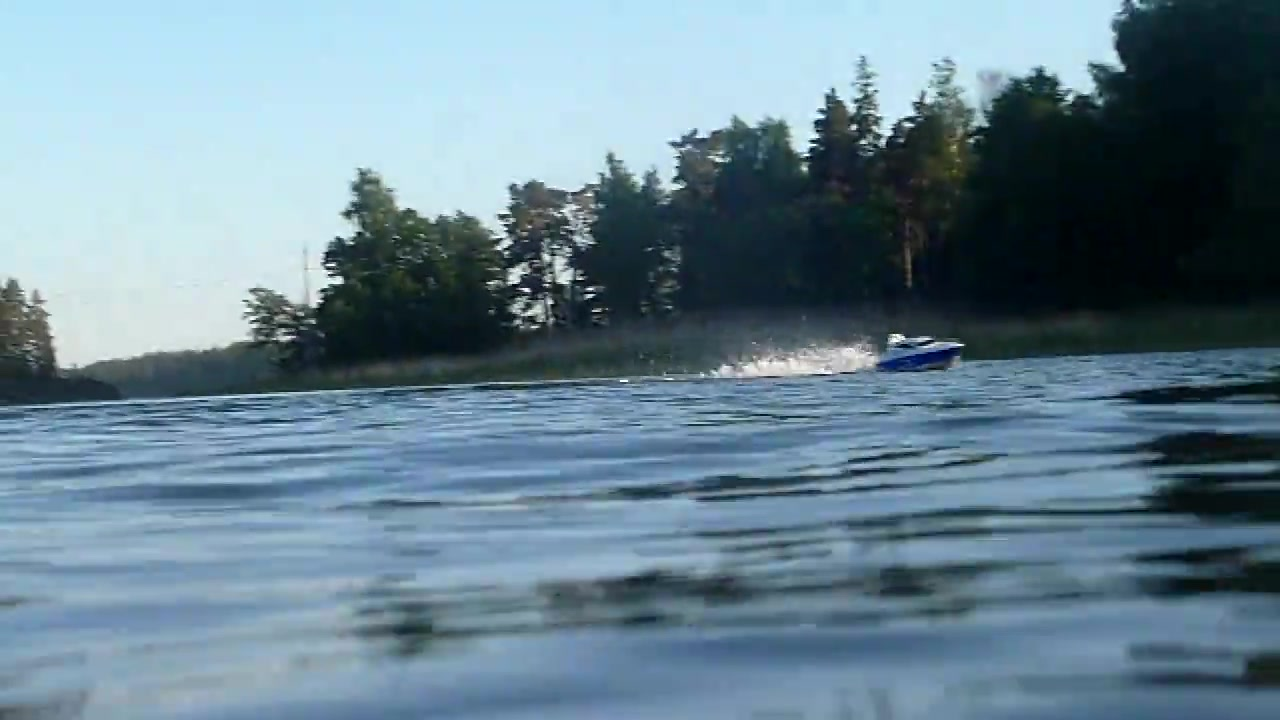boat: (869, 334, 970, 379)
